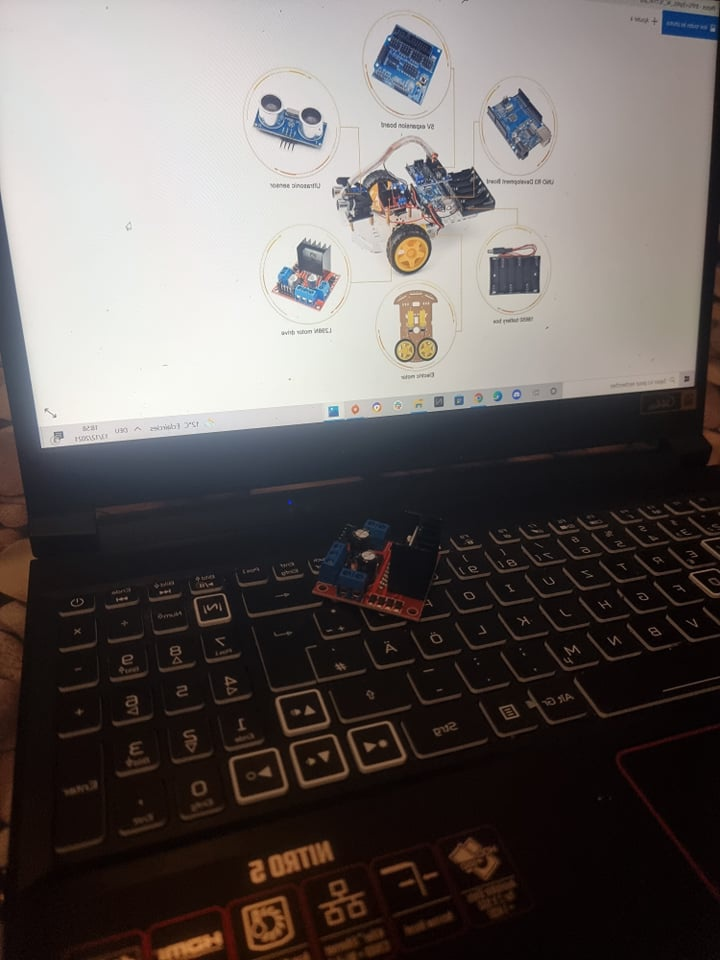5V EXPANSION: (368, 22, 445, 106), (406, 153, 452, 185)
BATTERY BOX: (453, 164, 497, 216), (491, 255, 543, 295)
MOTOR: (314, 504, 445, 624), (273, 238, 340, 313), (378, 177, 410, 208)
SENSOR: (253, 92, 327, 146), (329, 182, 350, 216)
UNO R3: (488, 89, 553, 161), (413, 184, 457, 214)
